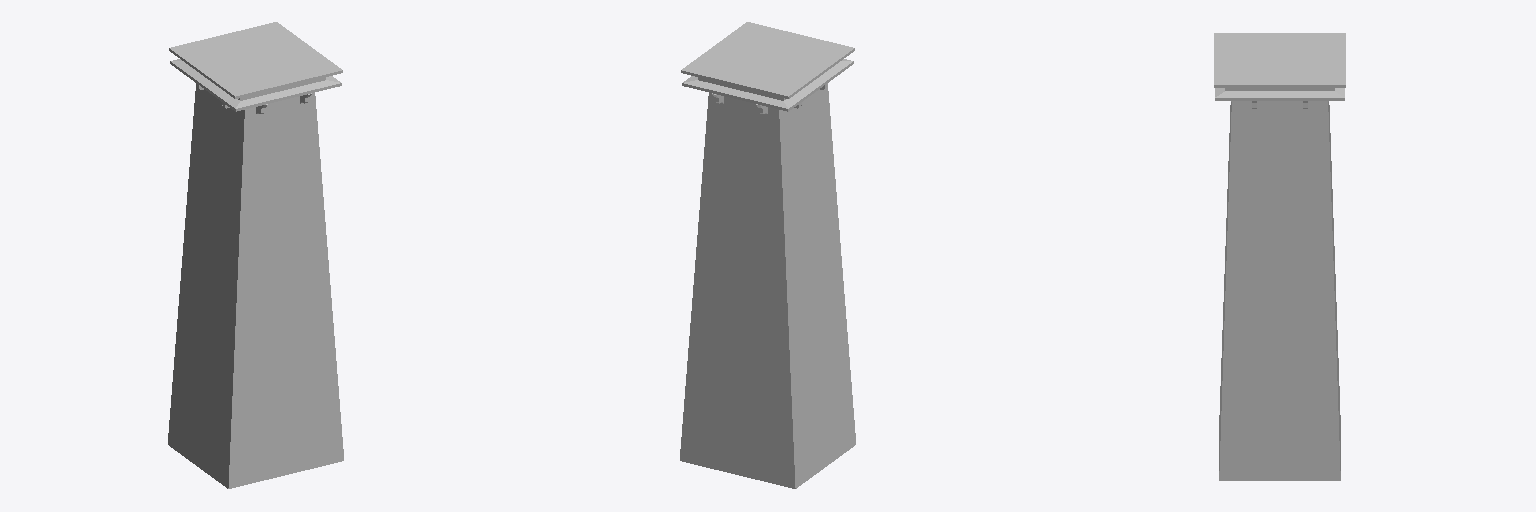
Rendered from TheKeepColumnRight.obj.
3 renders of one model, left to right at view 1: azimuth 30°, elevation 25°; view 2: azimuth 150°, elevation 25°; view 3: azimuth 270°, elevation 25°, orthographic.
Visible parts, largest first — view 1: Cube.003_Cube.005; view 2: Cube.003_Cube.005; view 3: Cube.003_Cube.005.
Boxes of the visible parts, box(x1,y1,x2,y2) form: Cube.003_Cube.005: box(168, 22, 343, 488); Cube.003_Cube.005: box(680, 22, 855, 488); Cube.003_Cube.005: box(1214, 33, 1345, 480).
Bounding box in the file's own units: 52.83 × 171 × 52.38.